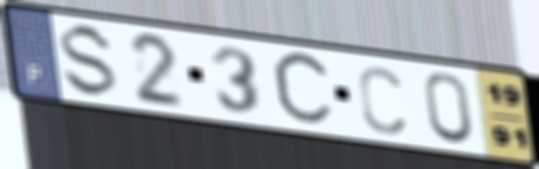0: (422, 70, 476, 146)
2: (126, 31, 186, 113)
3: (207, 45, 263, 116)
C: (268, 48, 338, 131), (355, 62, 409, 137)
S: (58, 22, 122, 101)
